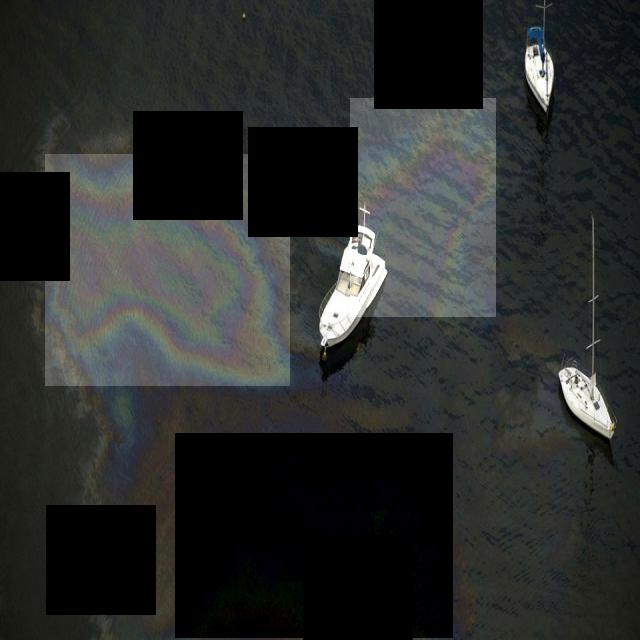oil spill: (175, 433, 453, 638), (45, 154, 290, 386), (350, 99, 496, 317)
